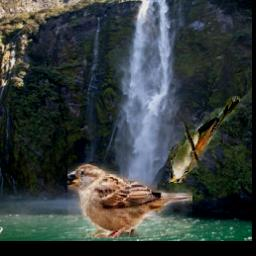Cuckoo: (169, 96, 240, 183)
Sparrow: (67, 163, 192, 238)
